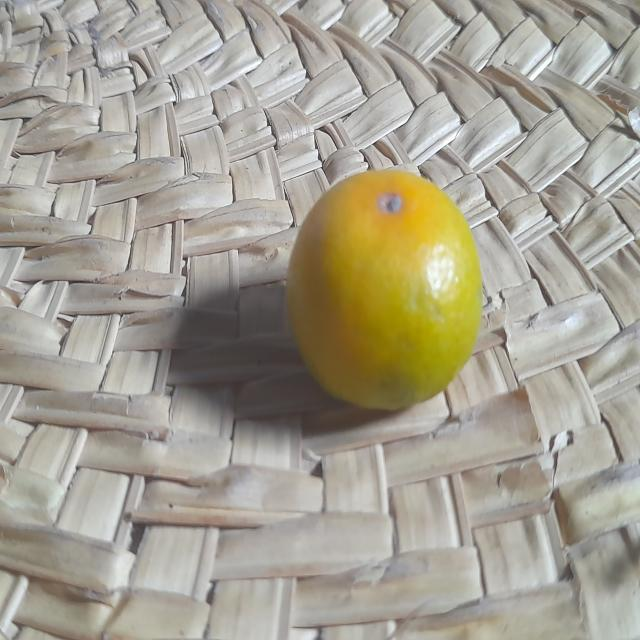greening: (283, 160, 492, 417)
